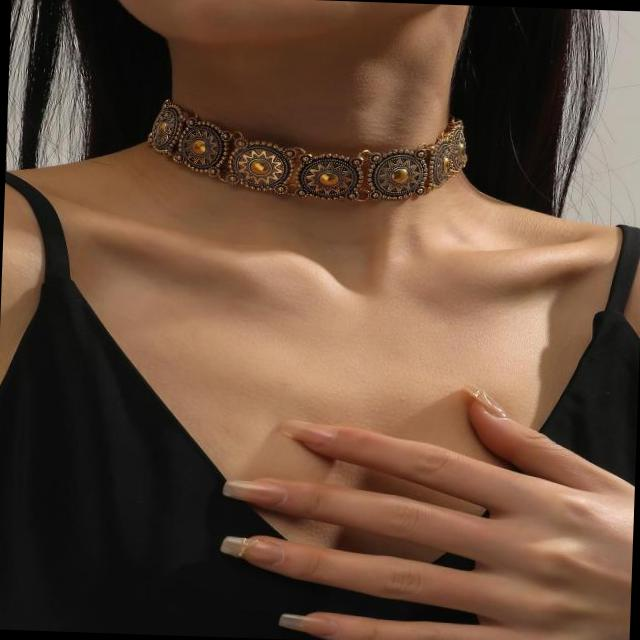Nail: (219, 531, 283, 567), (458, 373, 506, 417), (223, 478, 289, 506), (282, 417, 342, 445), (278, 613, 340, 638)
